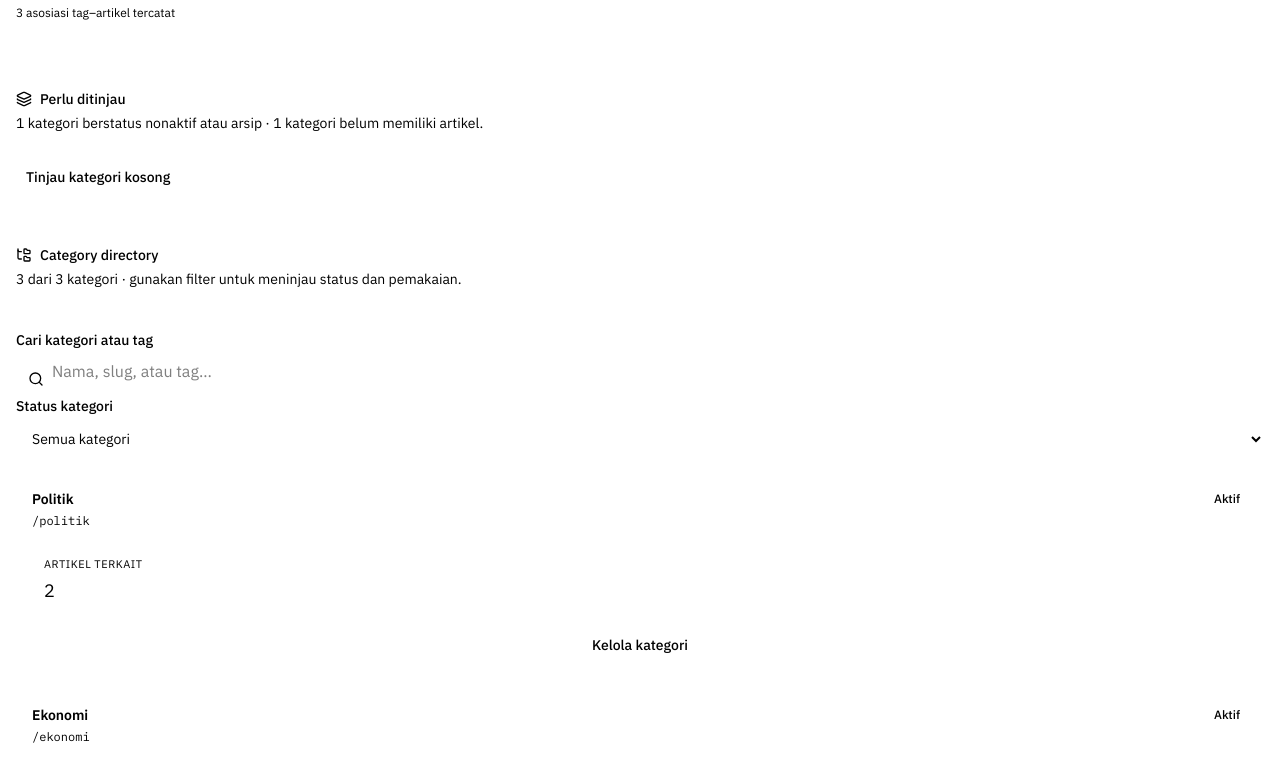
Test case: Taxonomy Control Center V2 › filters category cards and tag vocabulary locally without a fetch
(page scrolled)
Type "eko" into the field labelled "Cari kategori atau tag". click: (640, 371)
box: [16,355,1264,387]
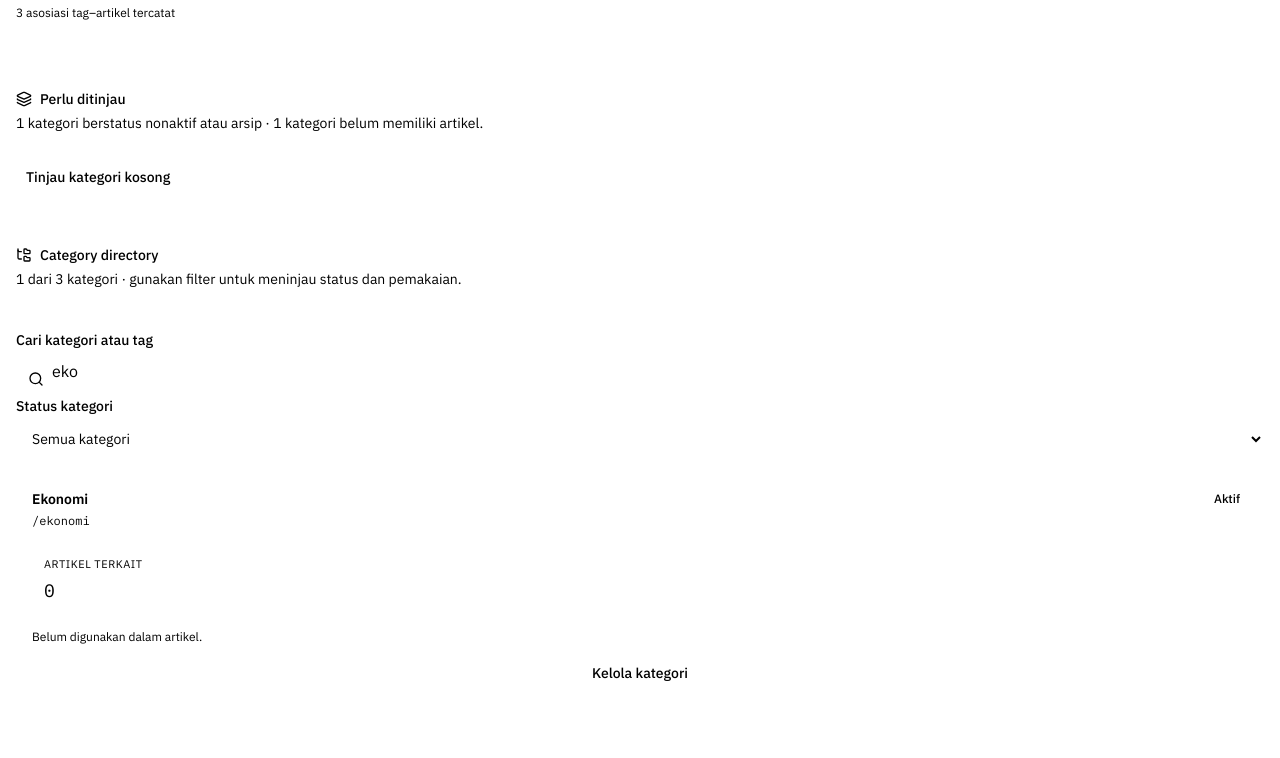
Expected: the element "Ekonomi" is shown, [16,473,1264,705]
Now the heading "Politik" is gone
